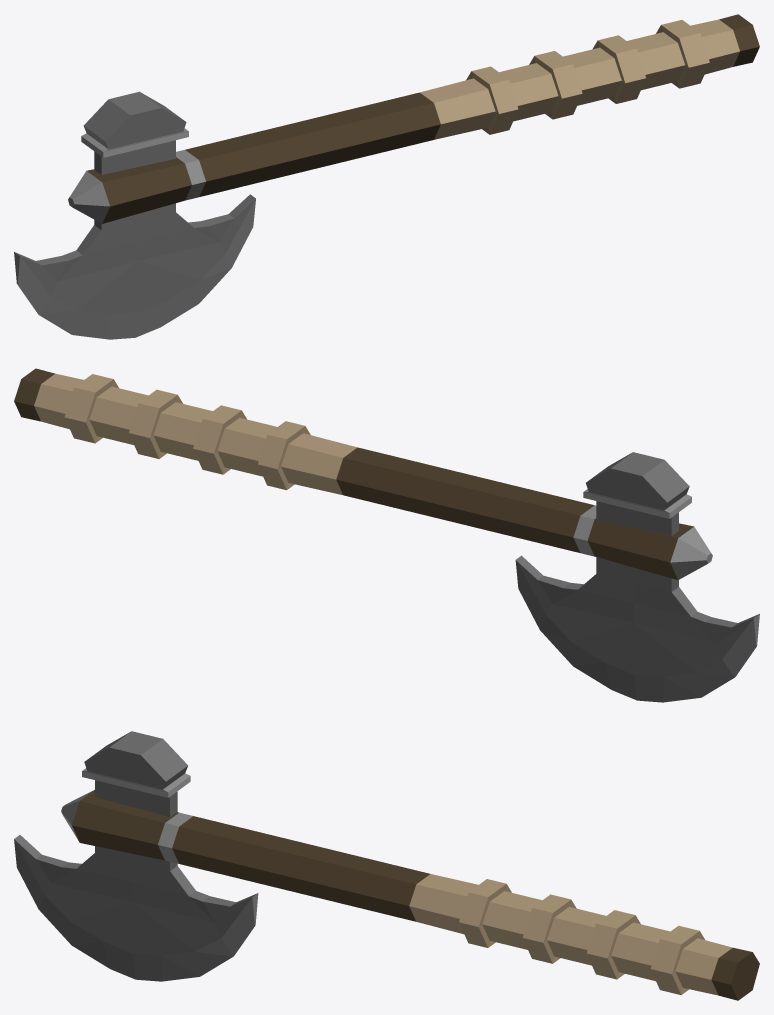
The model's file is Axe.fbx.
3 renders of one model, top to bottom at view 1: azimuth 30°, elevation 25°; view 2: azimuth 150°, elevation 25°; view 3: azimuth 330°, elevation 25°, orthographic.
Parts seen in each view (by area): view 1: ONO; view 2: ONO; view 3: ONO.
Boxes of the visible parts, x1=… form: ONO: x1=14, y1=14, x2=759, y2=339; ONO: x1=14, y1=368, x2=759, y2=702; ONO: x1=14, y1=731, x2=759, y2=1000.
Size of the model in its own units: 85.95 by 26.5 by 7.61.
